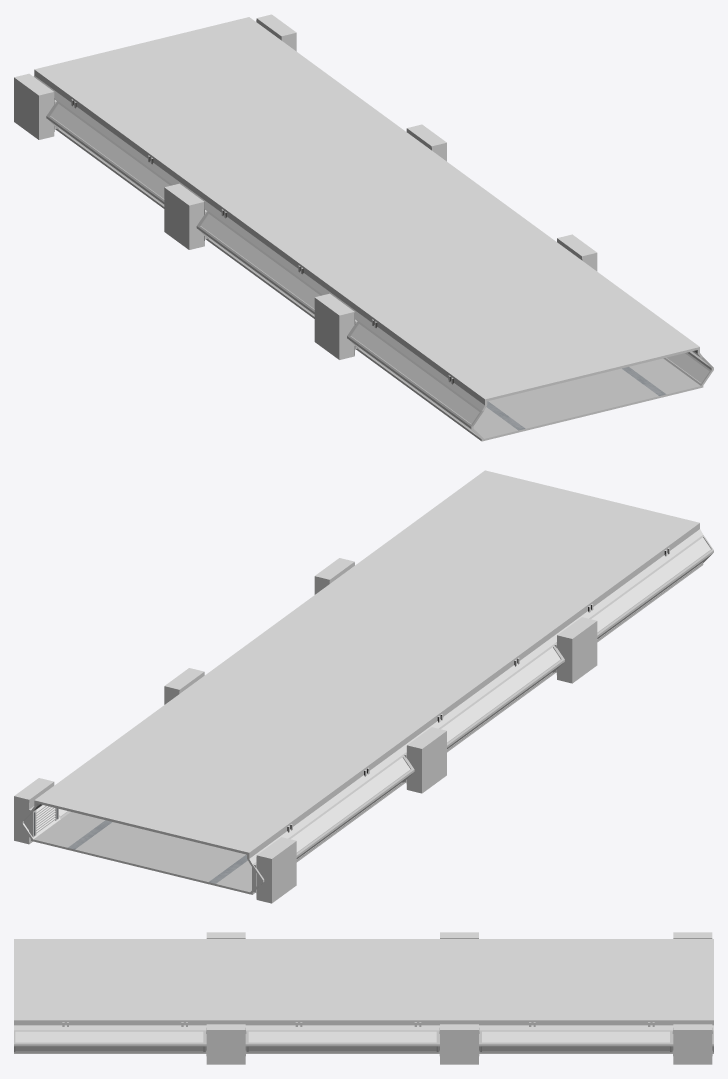
Rendered from Sci-FI Building 1_ Tunnel 1.fbx.
The picture shows the model from 3 angles, top to bottom: view 1: azimuth 30°, elevation 25°; view 2: azimuth 150°, elevation 25°; view 3: azimuth 270°, elevation 25°; orthographic projection. The views are drawn at different scales.
Visible parts, largest first — view 1: Cube; view 2: Cube; view 3: Cube.
Boxes of the visible parts, x1=… form: Cube: x1=14, y1=14, x2=713, y2=441; Cube: x1=14, y1=470, x2=713, y2=903; Cube: x1=14, y1=932, x2=713, y2=1064.
Bounding box in the file's own units: 586 × 101 × 1775.
